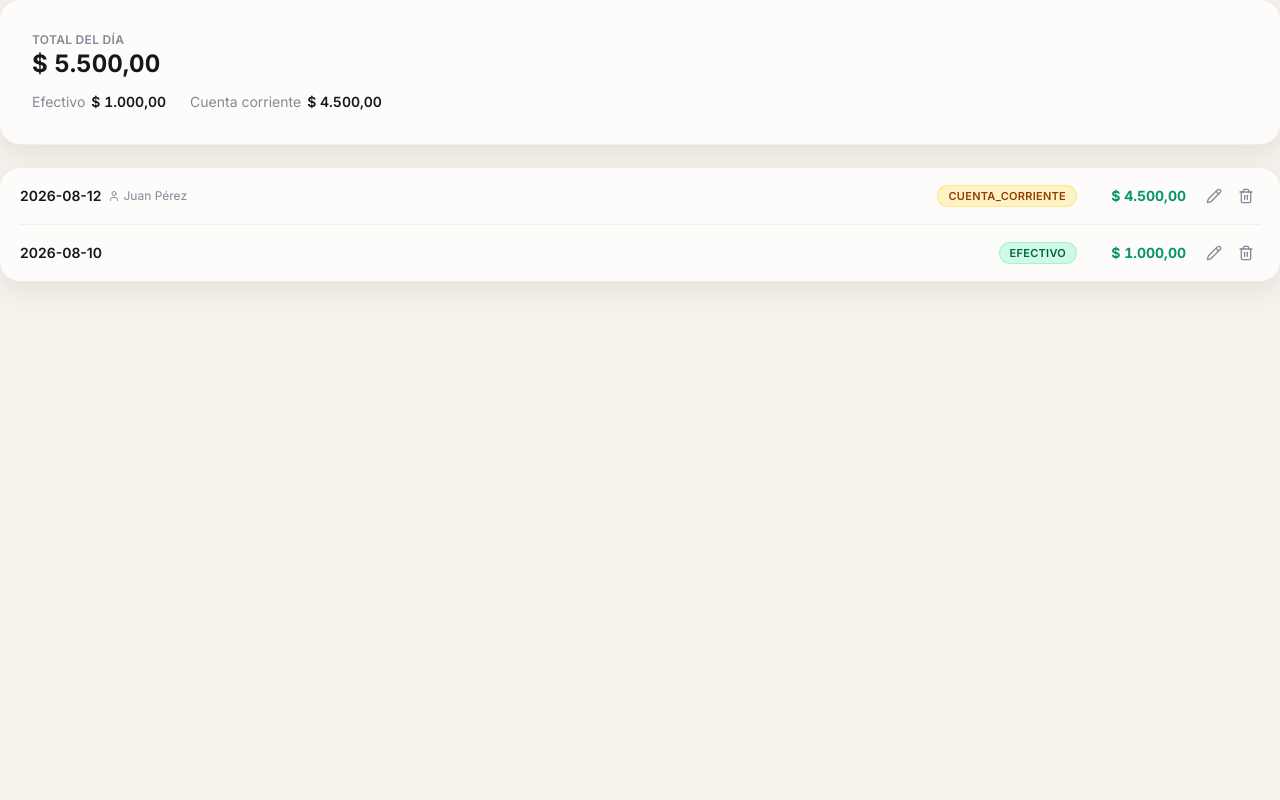
Test: VentasList — a failed delete is surfaced, not silent (review finding B) › shows an error and keeps the alertdialog open when deleting a fiado fails
Expected: the text "Juan Pérez" is shown, [108, 188, 187, 204]
Click the button named "eliminar venta venta-2": (1246, 196) [1232, 182, 1260, 210]
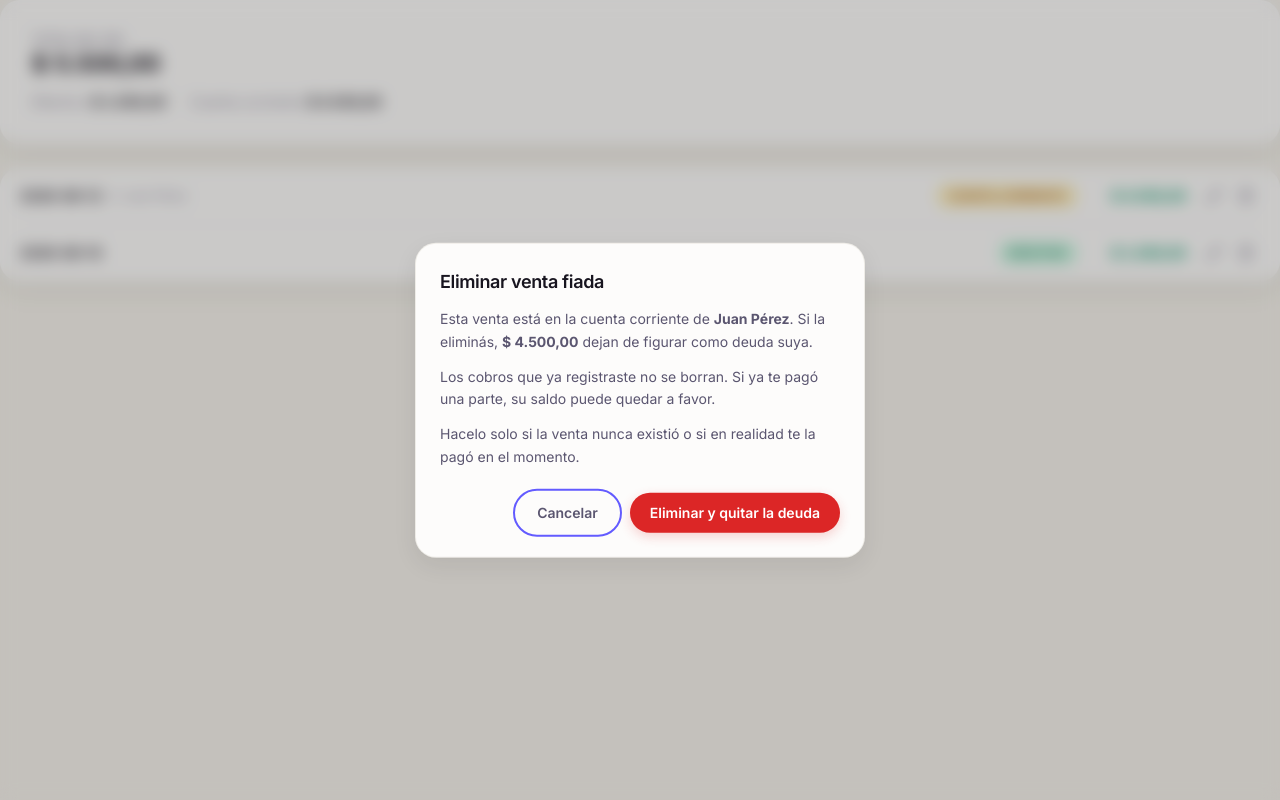
Now the dialog is shown, box [416, 244, 864, 556]
Click the button with test id "deuda-dialog-confirm": (735, 512) [630, 492, 840, 532]
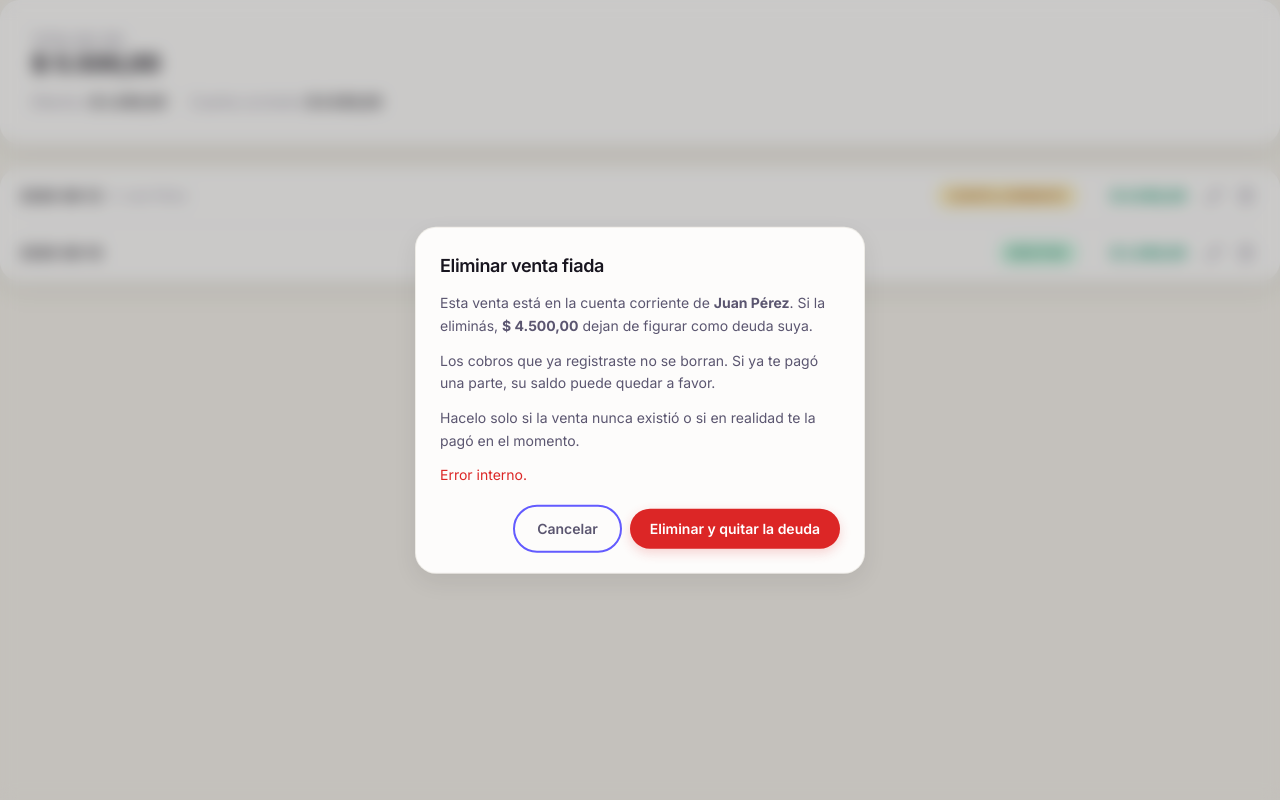
Now the dialog is shown, box [416, 228, 864, 572]
Now the message "Error interno." is shown, box [440, 465, 527, 482]
